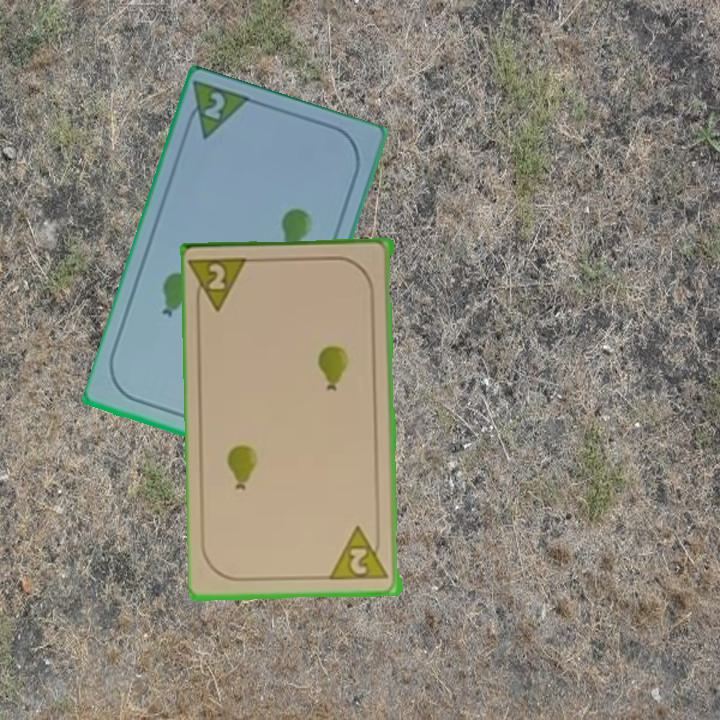2p: (180, 79, 256, 144), (189, 254, 254, 317), (329, 523, 393, 583)
